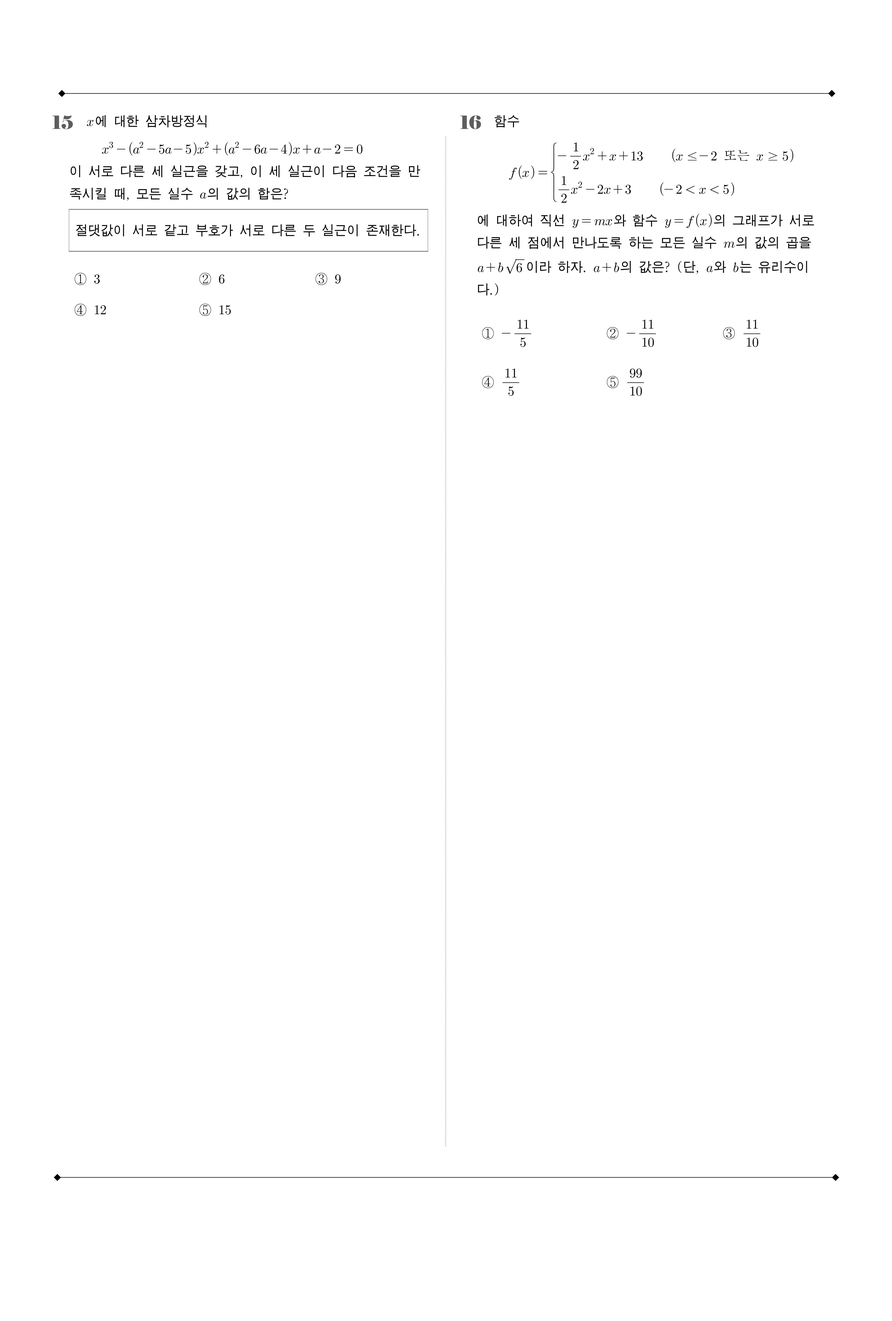problem: (453, 99, 828, 410)
